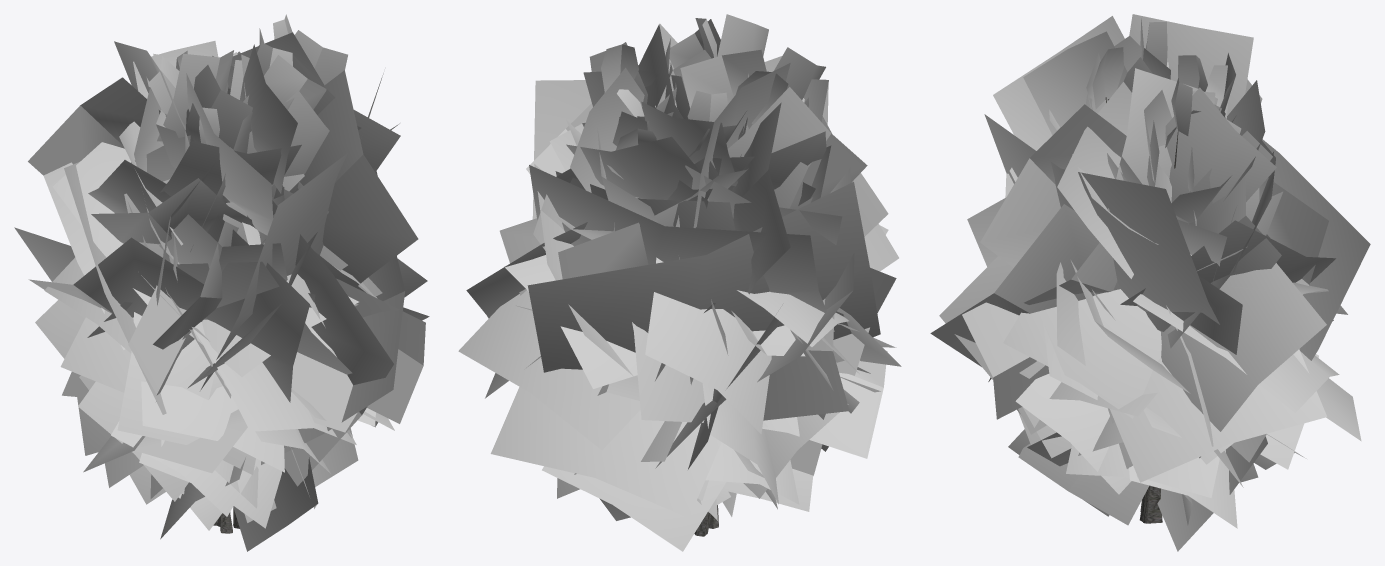
Rendered from 1_Trees-02.fbx.
The picture shows the model from 3 angles, left to right: view 1: azimuth 30°, elevation 25°; view 2: azimuth 150°, elevation 25°; view 3: azimuth 270°, elevation 25°; orthographic projection. The views are drawn at different scales.
Parts seen in each view (by area): view 1: Tree-02-2, Tree-02-1, Tree-02-3, Tree-02-4; view 2: Tree-02-2, Tree-02-1, Tree-02-3, Tree-02-4; view 3: Tree-02-2, Tree-02-1, Tree-02-3, Tree-02-4.
Boxes of the visible parts, x1,y1,x2,y2 form: Tree-02-2: [28, 14, 427, 526]; Tree-02-1: [28, 41, 429, 528]; Tree-02-3: [14, 135, 425, 528]; Tree-02-4: [129, 293, 358, 551]; Tree-02-2: [526, 14, 898, 536]; Tree-02-1: [458, 56, 901, 517]; Tree-02-3: [499, 116, 880, 551]; Tree-02-4: [599, 262, 822, 528]; Tree-02-2: [930, 14, 1370, 528]; Tree-02-1: [984, 53, 1361, 522]; Tree-02-3: [962, 117, 1306, 523]; Tree-02-4: [1008, 288, 1267, 551].
Size of the model in its own units: 582 by 809 by 661.
